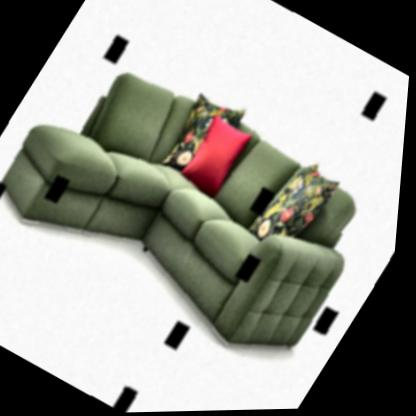Sofa: (16, 44, 397, 351)
